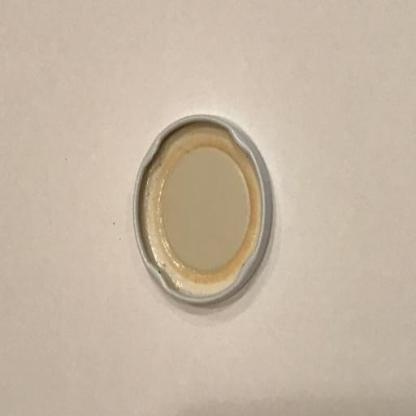METAL: (132, 115, 273, 307)
